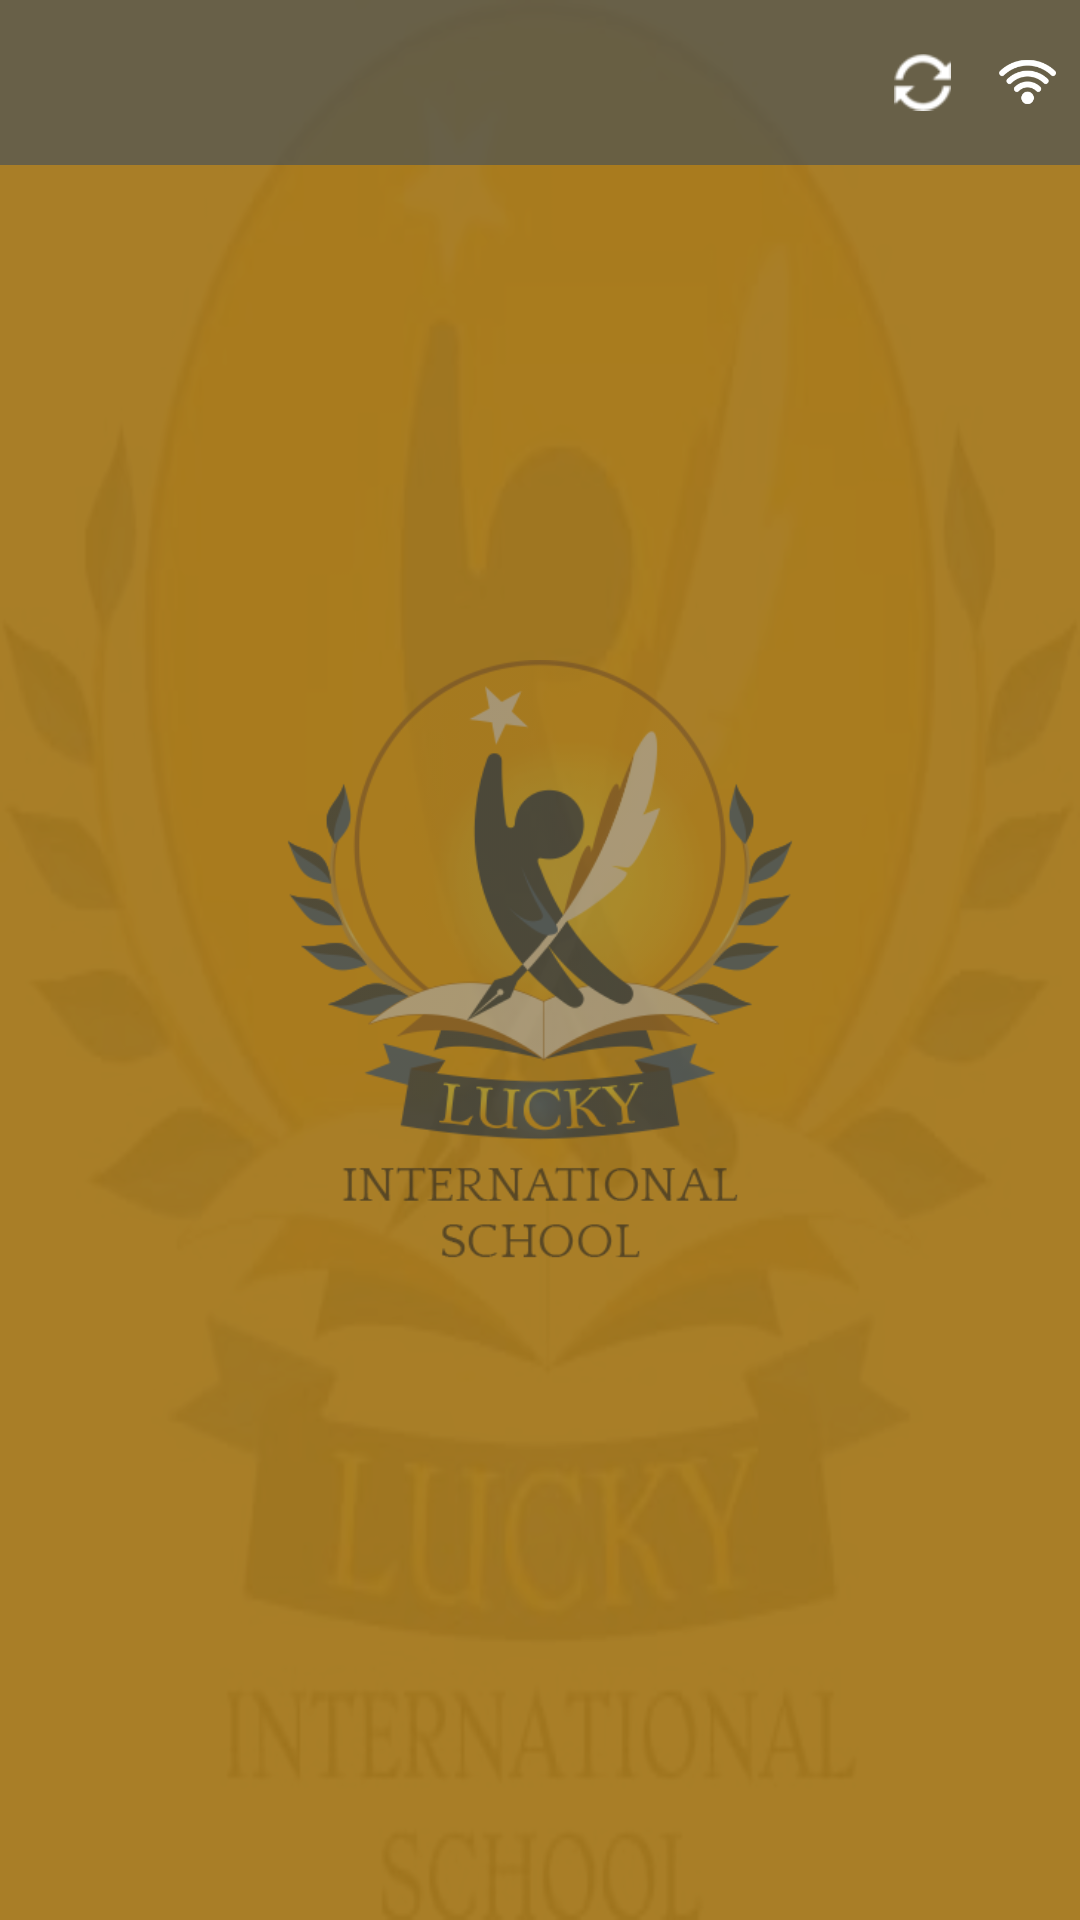

Icons on this 1080 x 1920 Android screen, each with the point to tap as point (x, y):
sync: point (922, 82)
wifi: point (1027, 82)
